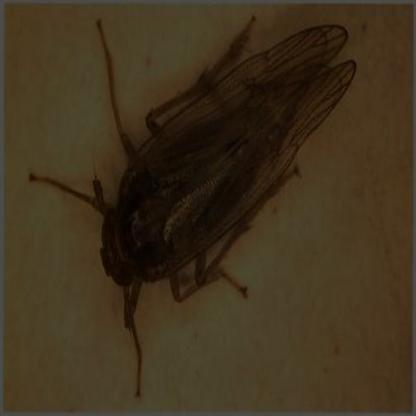brown-planthopper: (100, 19, 358, 326)
